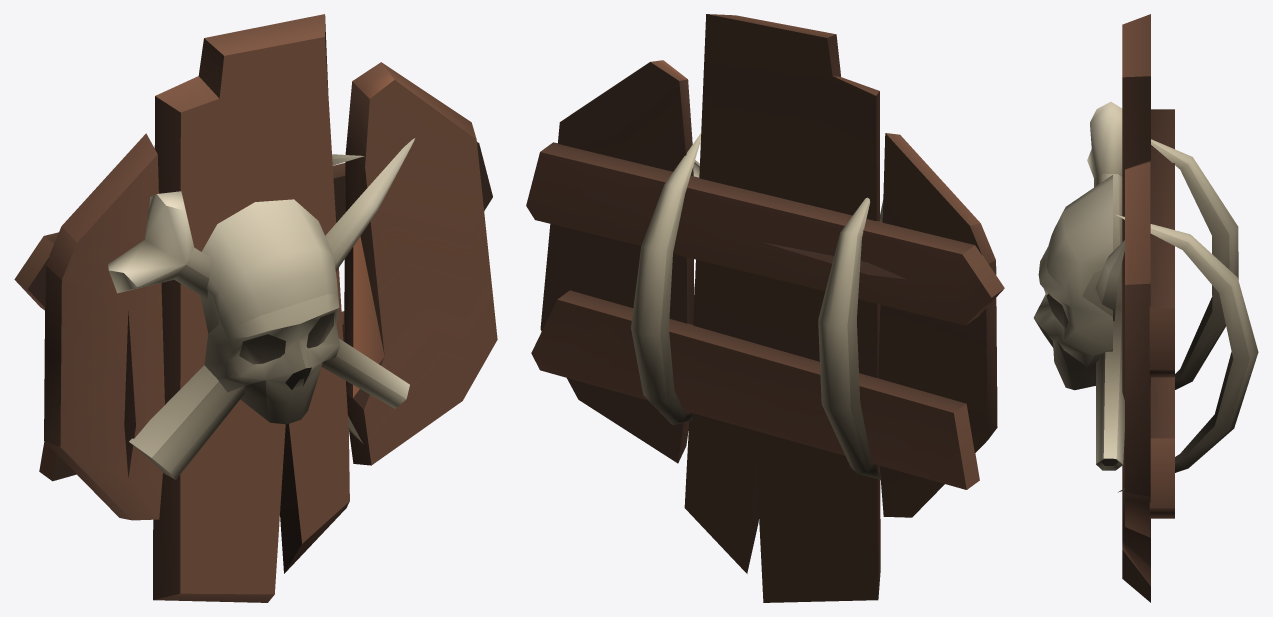
The model's file is Shield_1B.FBX.
3 renders of one model, left to right at view 1: azimuth 30°, elevation 25°; view 2: azimuth 150°, elevation 25°; view 3: azimuth 270°, elevation 25°, orthographic. The views are drawn at different scales.
Parts seen in each view (by area): view 1: Shield_1B; view 2: Shield_1B; view 3: Shield_1B.
Boxes of the visible parts, x1=… form: Shield_1B: x1=14, y1=14, x2=497, y2=602; Shield_1B: x1=526, y1=14, x2=1004, y2=602; Shield_1B: x1=1033, y1=14, x2=1258, y2=602.
Size of the model in its own units: 54.33 by 64.74 by 23.62.
